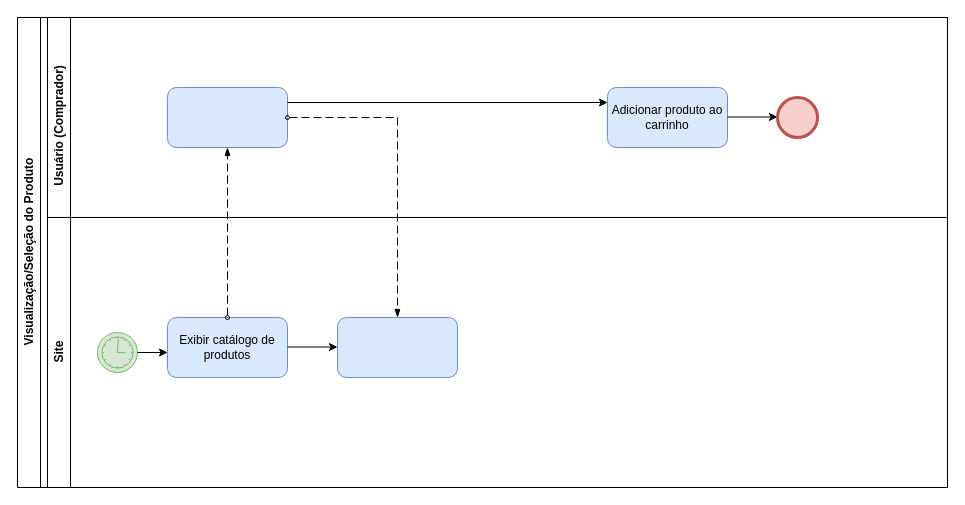
This 965x505 diagram has some shape labels left out. The shapes that lost their labels are listed below. From the top down, each one's centre as x and y in pixels, then its label:
At (227,117): "Selecionar um produto".
At (397,347): "Exibir informações e fotos do produto".
